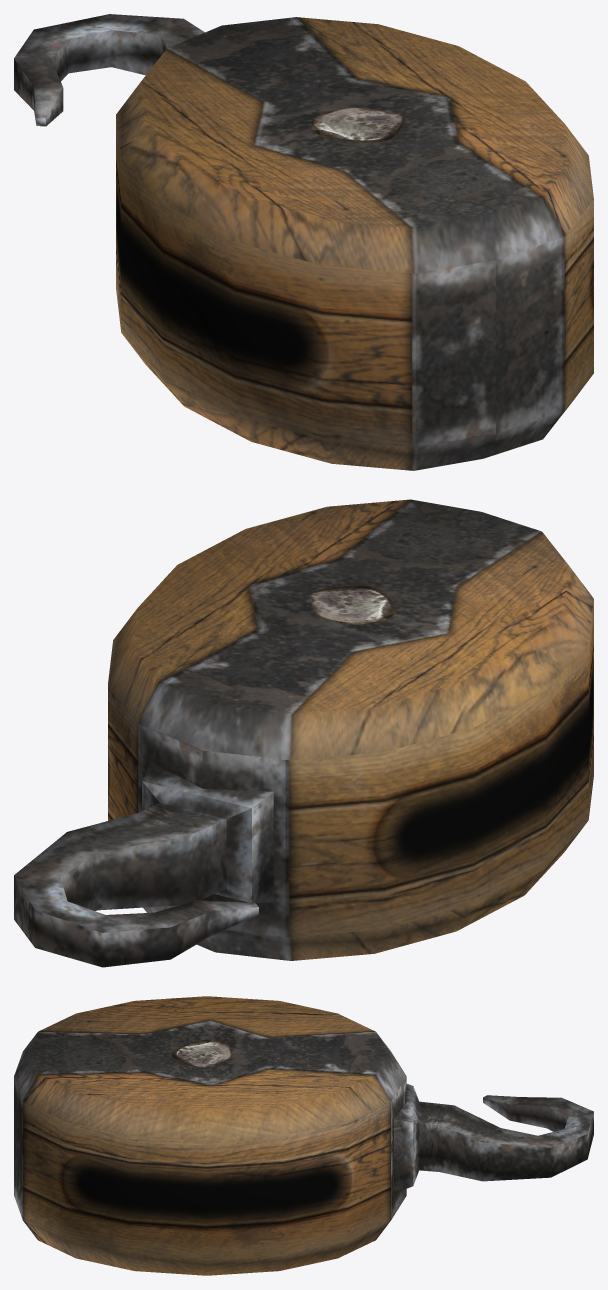
File: Pulley 2 Hook.fbx
3 renders of one model, top to bottom at view 1: azimuth 30°, elevation 25°; view 2: azimuth 150°, elevation 25°; view 3: azimuth 270°, elevation 25°, orthographic. The views are drawn at different scales.
Visible parts, largest first — view 1: reinforced block single; view 2: reinforced block single; view 3: reinforced block single.
Boxes of the visible parts, x1,y1,x2,y2 form: reinforced block single: (14,14,593,470); reinforced block single: (14,499,593,967); reinforced block single: (14,996,593,1275).
Size of the model in its own units: 24.27 by 46.34 by 14.59.
Materials: 1 (1 with a texture image).
